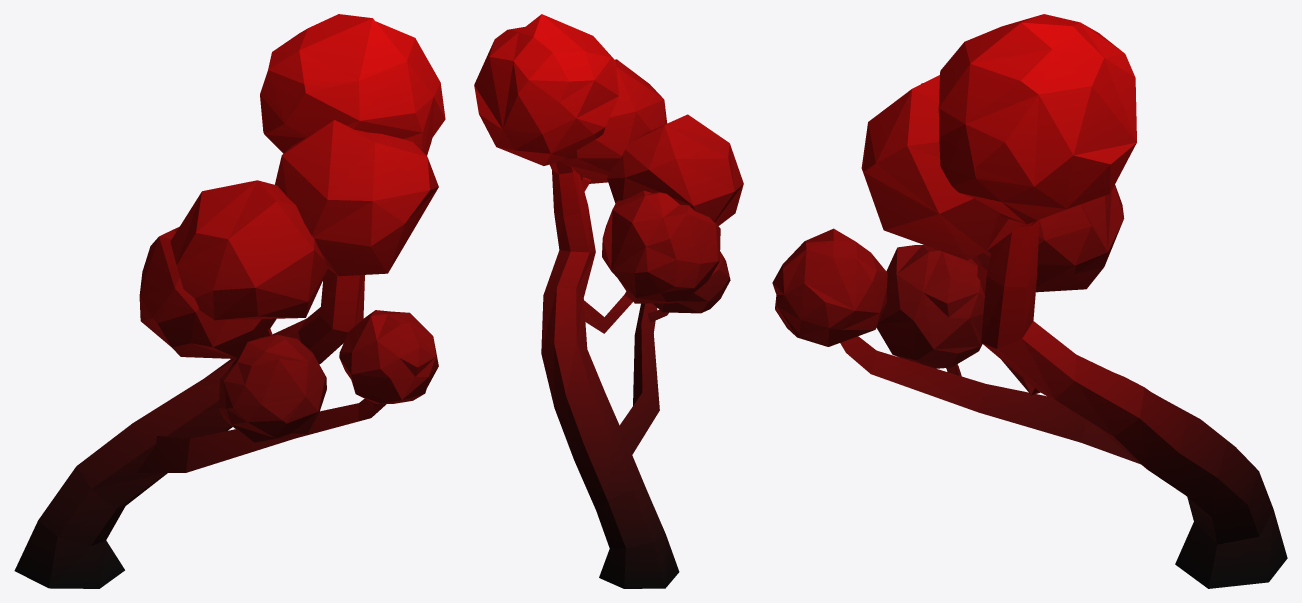
Rendered from TreeBent07.fbx.
3 views of the same model, side by side, from view 1: azimuth 30°, elevation 25°; view 2: azimuth 150°, elevation 25°; view 3: azimuth 270°, elevation 25° (orthographic). The views are drawn at different scales.
Parts seen in each view (by area): view 1: TreeBent07_LOD0; view 2: TreeBent07_LOD0; view 3: TreeBent07_LOD0.
Boxes of the visible parts, box(x1,y1,x2,y2) form: TreeBent07_LOD0: box(14, 14, 445, 588); TreeBent07_LOD0: box(474, 14, 743, 588); TreeBent07_LOD0: box(772, 14, 1287, 588).
Size of what is drawn, in the model's own units: 538 by 918 by 649.
